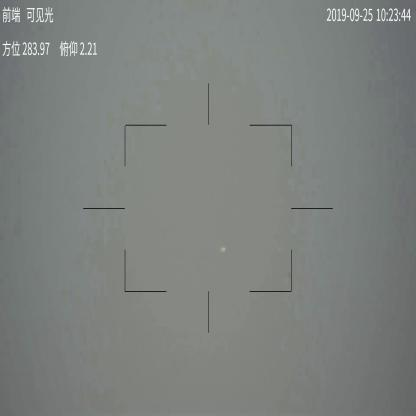uav: (220, 246, 227, 253)
